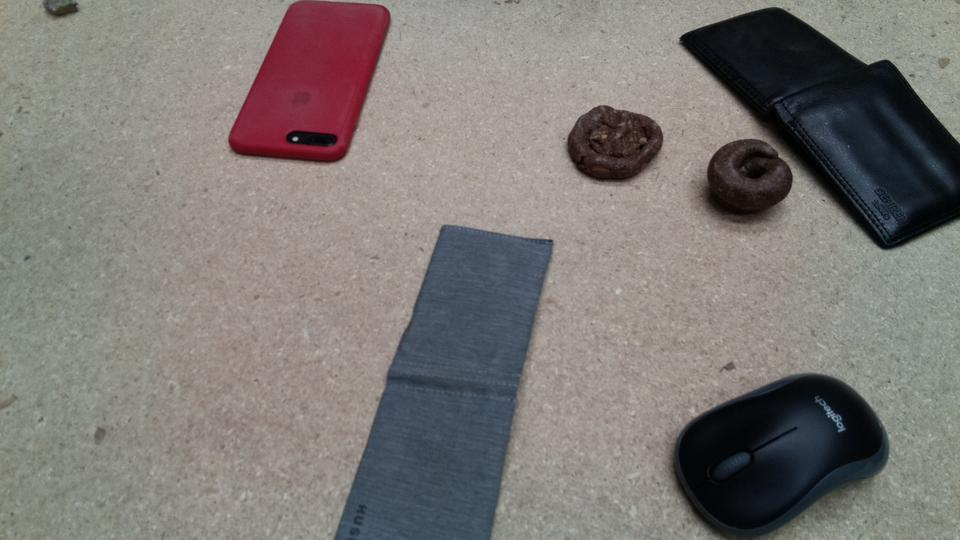poop: (565, 102, 667, 185), (704, 135, 793, 216)
